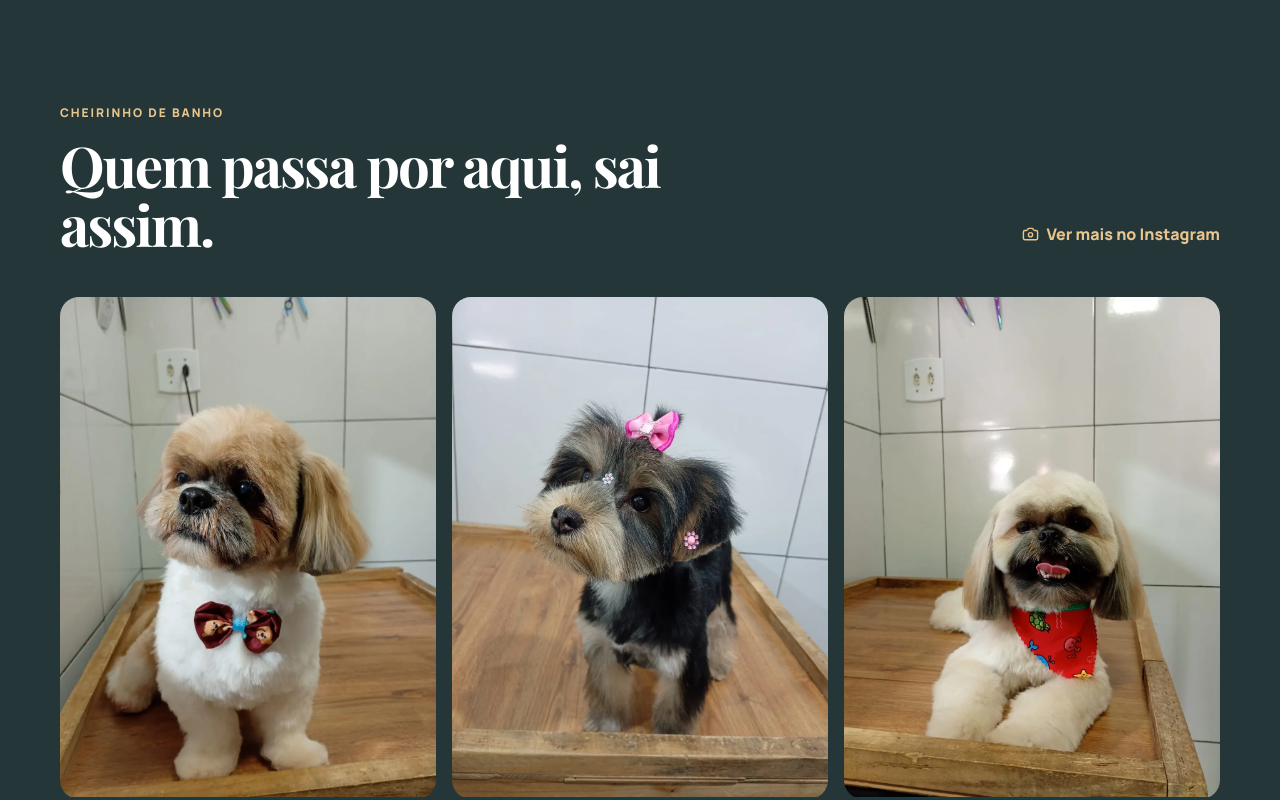
Scenario: Galeria de fotos reais › navega por gesto e fecha pelo botão
The image size is (1280, 800).
Step 1. Click the button named "Ampliar foto 1:" → [248, 548], box [60, 297, 436, 799]
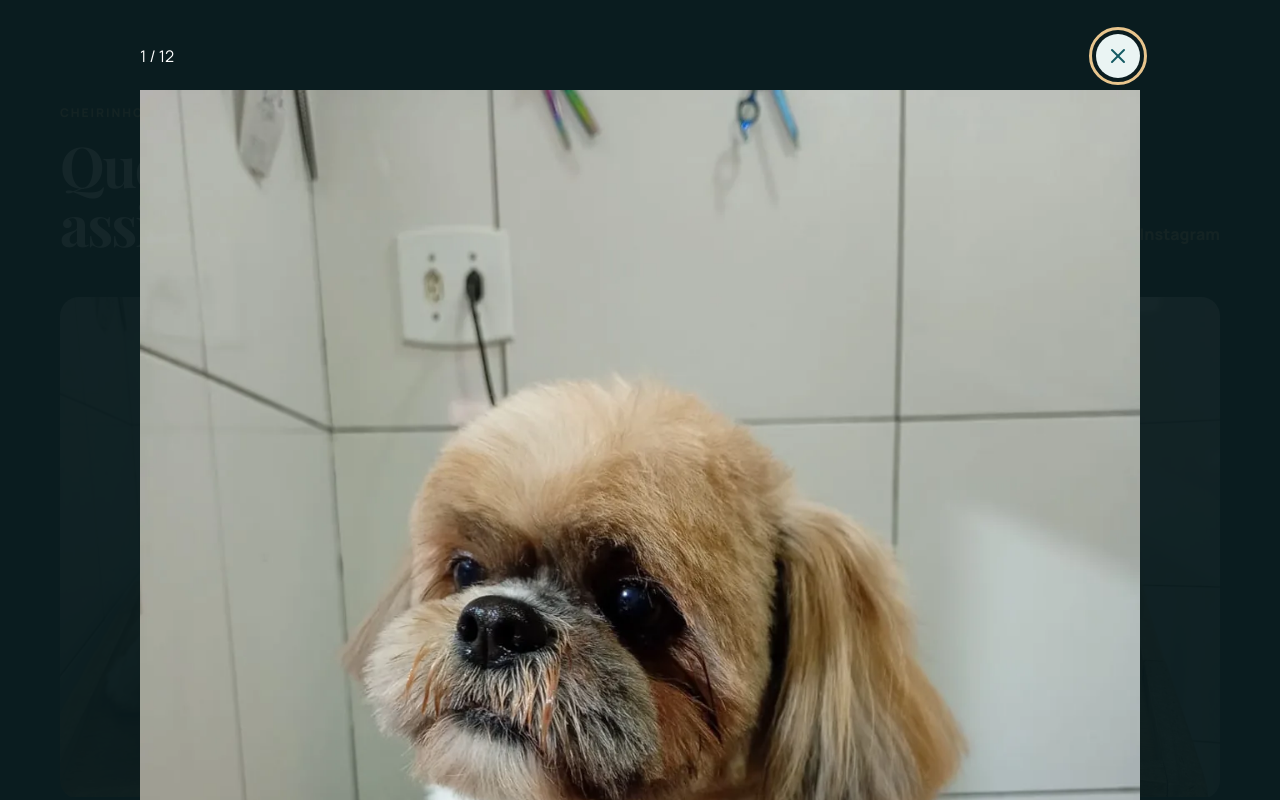
Step 2. Press the mouse on the element with class "lightbox-photo" → [640, 400], box [140, 90, 1140, 710]
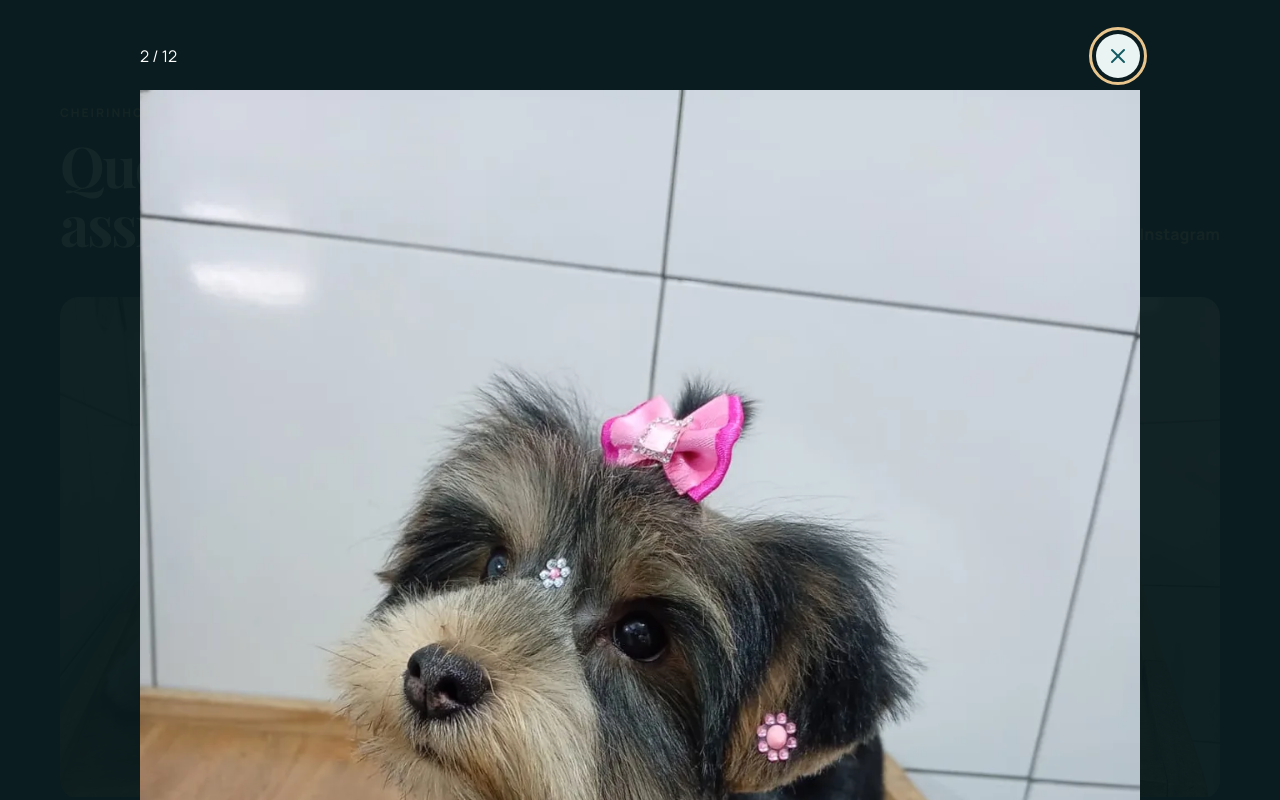
Step 3. Click the button named "Fechar fotos" → [1118, 56], box [1096, 34, 1140, 78]
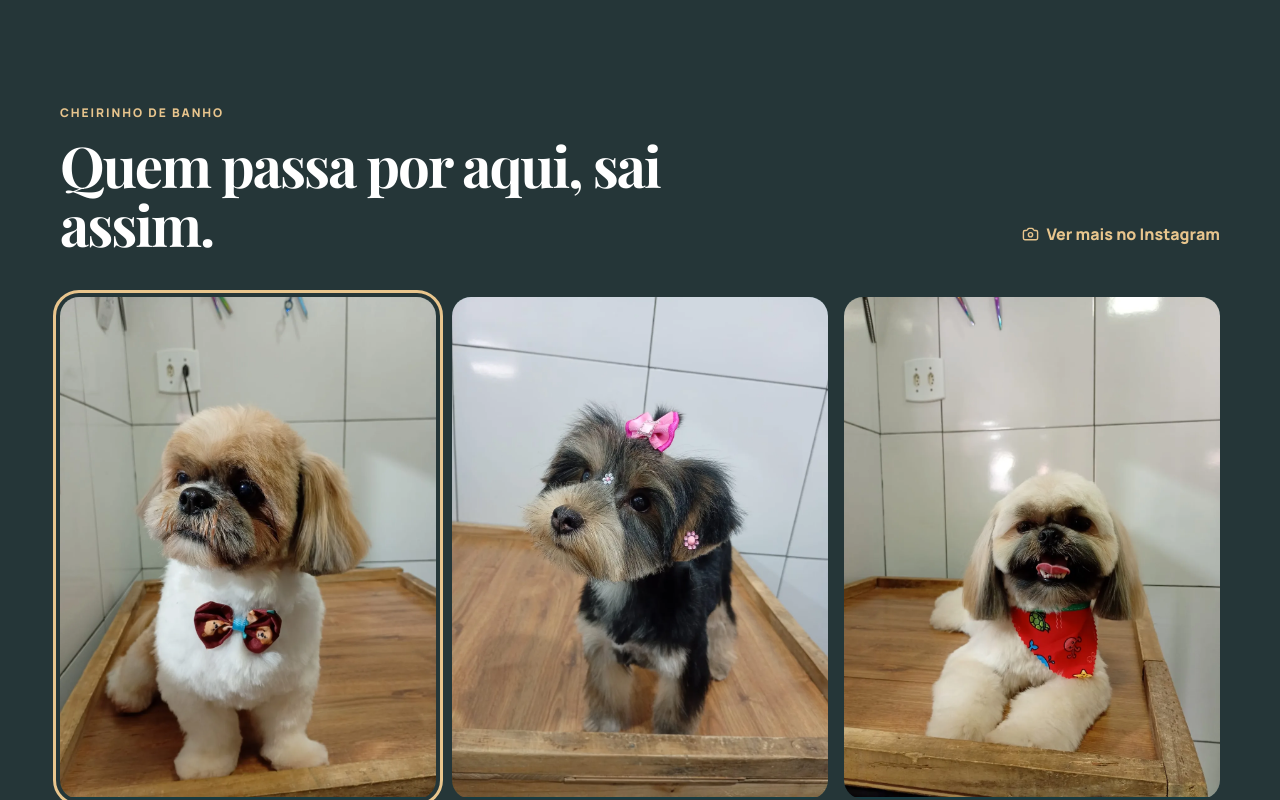
Now the dialog is gone
